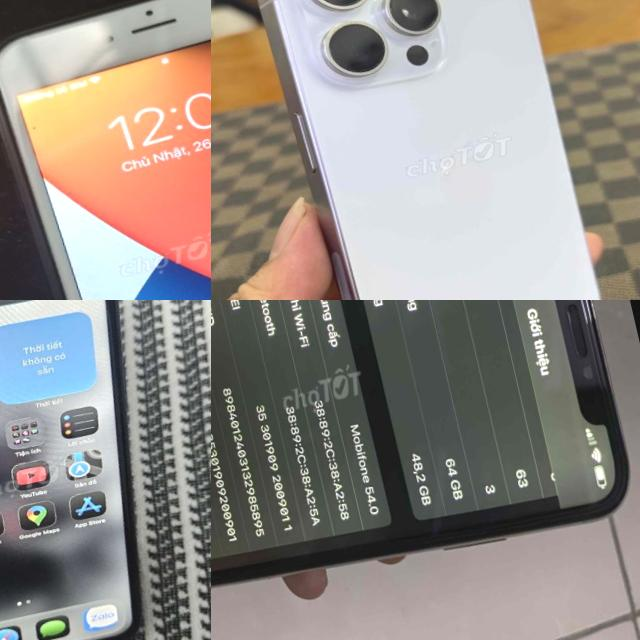gen_11: (0, 300, 195, 640)
gen_15: (225, 0, 640, 300)
gen_x_xs: (211, 300, 628, 584)
scratch: (0, 0, 211, 300)
